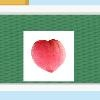raw: (29, 38, 67, 74)
